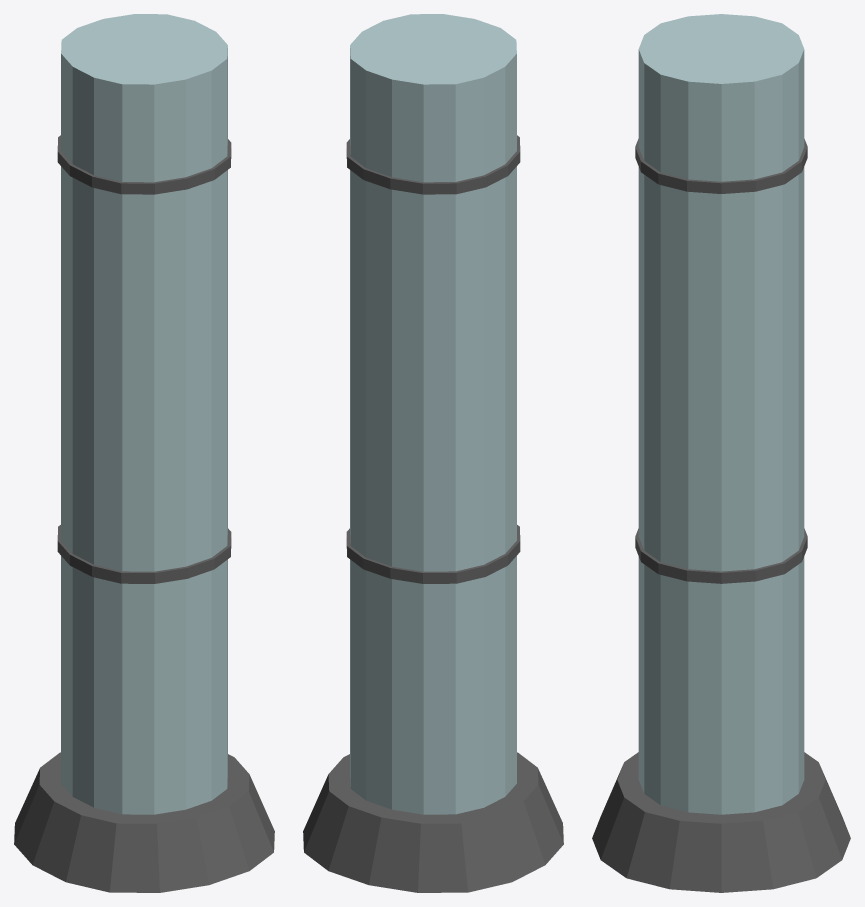
File: pipe entry.fbx
The picture shows the model from 3 angles, left to right: view 1: azimuth 30°, elevation 25°; view 2: azimuth 150°, elevation 25°; view 3: azimuth 270°, elevation 25°; orthographic projection.
Visible parts, largest first — view 1: Plane.010; view 2: Plane.010; view 3: Plane.010.
Boxes of the visible parts, x1,y1,x2,y2 form: Plane.010: (14, 14, 274, 892); Plane.010: (303, 14, 563, 892); Plane.010: (592, 14, 850, 892).
Bounding box in the file's own units: 293 × 986 × 293.
